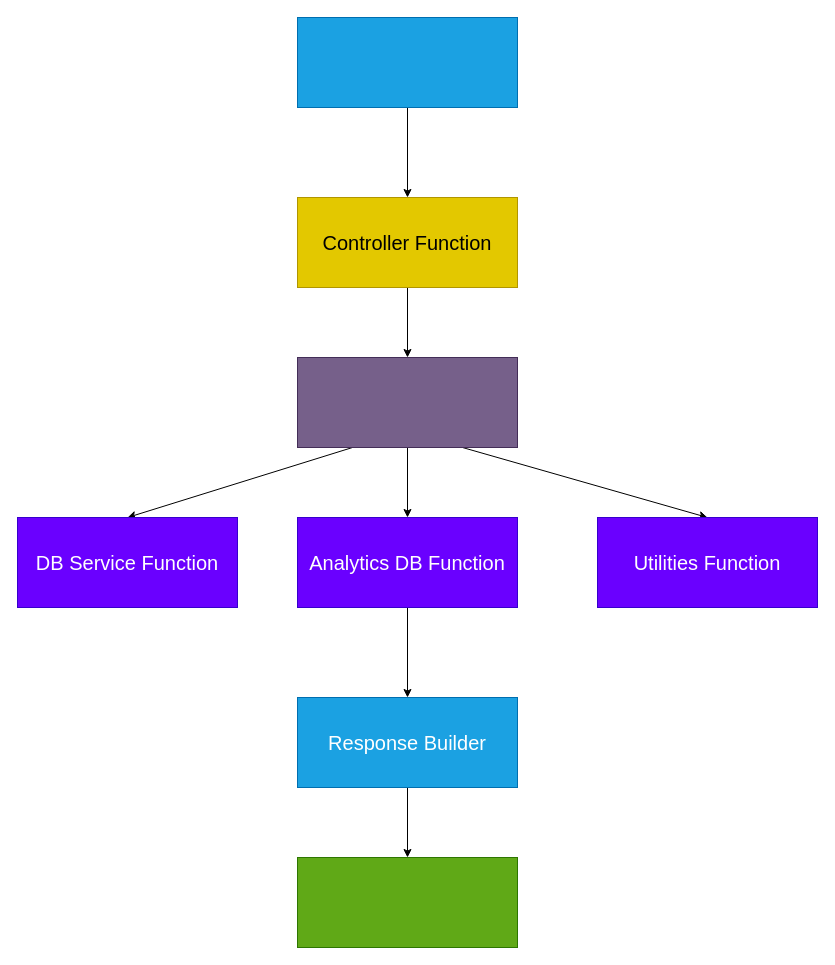
Some shapes in this 835 by 965 pixel diagram are drawn without their labels. Each missing label, with the centre of its shape:
"Backend Server" goes at [407,62].
"Client" goes at [407,902].
"Service Function" goes at [407,402].
